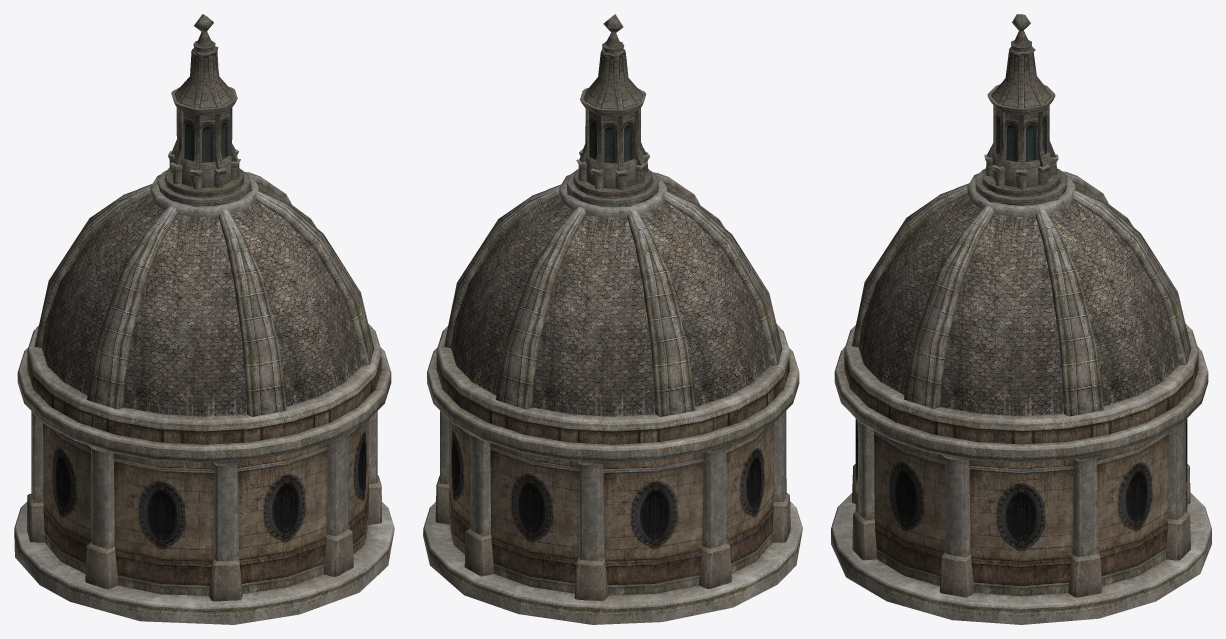
File: TowerUp.fbx
3 renders of one model, left to right at view 1: azimuth 30°, elevation 25°; view 2: azimuth 150°, elevation 25°; view 3: azimuth 270°, elevation 25°, orthographic.
Parts seen in each view (by area): view 1: LV_Campagna_Uni_TowerUpRoof_SM_CJH; view 2: LV_Campagna_Uni_TowerUpRoof_SM_CJH; view 3: LV_Campagna_Uni_TowerUpRoof_SM_CJH.
Part boxes in pixels (x1=…): LV_Campagna_Uni_TowerUpRoof_SM_CJH: x1=14, y1=14, x2=394, y2=624; LV_Campagna_Uni_TowerUpRoof_SM_CJH: x1=423, y1=14, x2=802, y2=624; LV_Campagna_Uni_TowerUpRoof_SM_CJH: x1=831, y1=14, x2=1211, y2=624.
Size of the model in its own units: 2.96 by 4.56 by 2.96.
2 materials, 2 textured.
